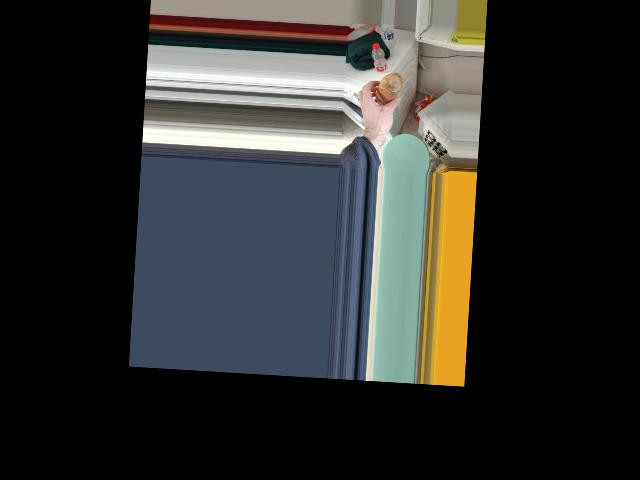sweet_potato: (373, 71, 403, 107)
